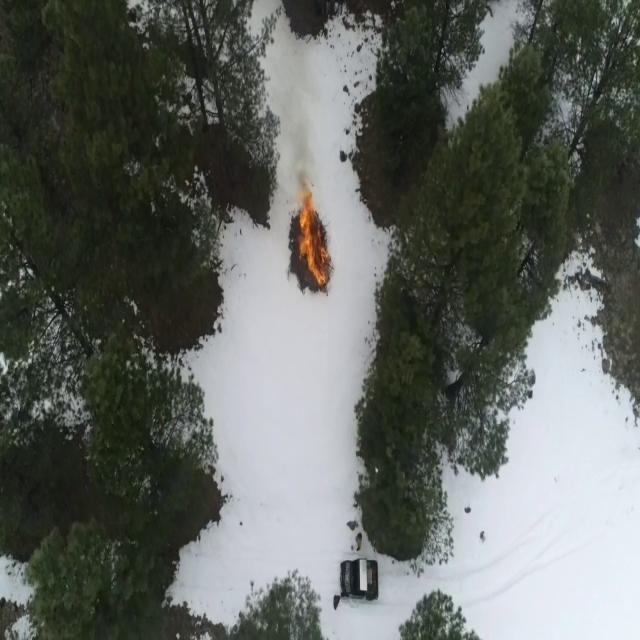fire: (301, 202, 328, 287)
